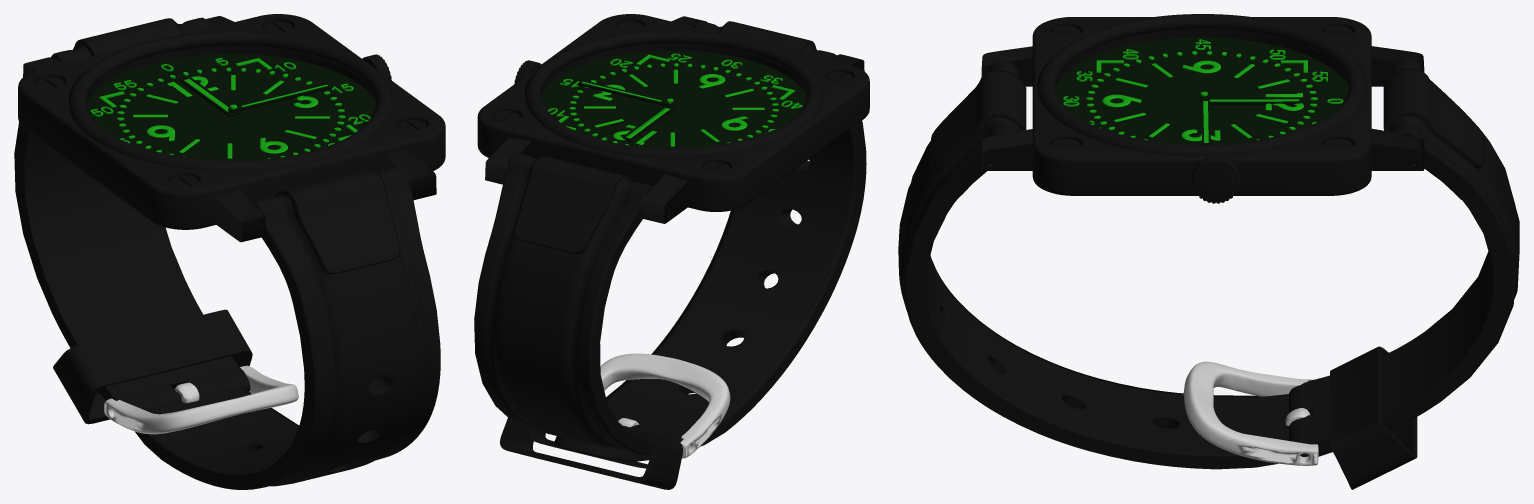
The model's file is watch3.fbx.
3 renders of one model, left to right at view 1: azimuth 30°, elevation 25°; view 2: azimuth 150°, elevation 25°; view 3: azimuth 270°, elevation 25°, orthographic. The views are drawn at different scales.
Parts seen in each view (by area): view 1: Object222, Rectangle047, Object221, Circle034, sport watch074, metal hold005, Group005, minute010, hour010; view 2: Rectangle047, Object221, Object222, Circle034, metal hold005, sport watch074, Group005, minute010, hour010; view 3: Rectangle047, Object222, Object221, Circle034, sport watch074, metal hold005, Group005, wheel009, hour010.
Part boxes in pixels (bbox=[...]): Object222: bbox=[135, 166, 440, 489]; Rectangle047: bbox=[18, 14, 445, 242]; Object221: bbox=[14, 17, 250, 411]; Circle034: bbox=[68, 31, 394, 171]; sport watch074: bbox=[53, 309, 252, 424]; metal hold005: bbox=[104, 365, 298, 434]; Group005: bbox=[133, 75, 329, 158]; minute010: bbox=[228, 83, 331, 113]; hour010: bbox=[180, 77, 239, 117]; Rectangle047: bbox=[477, 14, 869, 223]; Object221: bbox=[474, 153, 683, 468]; Object222: bbox=[553, 21, 866, 461]; Circle034: bbox=[524, 30, 823, 158]; metal hold005: bbox=[600, 353, 730, 458]; sport watch074: bbox=[500, 418, 682, 489]; Group005: bbox=[584, 69, 764, 146]; minute010: bbox=[578, 80, 673, 107]; hour010: bbox=[622, 106, 675, 141]; Rectangle047: bbox=[981, 17, 1424, 195]; Object222: bbox=[898, 60, 1332, 469]; Object221: bbox=[1289, 58, 1519, 456]; Circle034: bbox=[1037, 14, 1366, 156]; sport watch074: bbox=[1330, 346, 1417, 489]; metal hold005: bbox=[1183, 361, 1318, 465]; Group005: bbox=[1102, 60, 1303, 141]; wheel009: bbox=[1192, 155, 1239, 203]; hour010: bbox=[1200, 97, 1300, 104].
Bounding box in the file's own units: 156 × 185 × 275.
